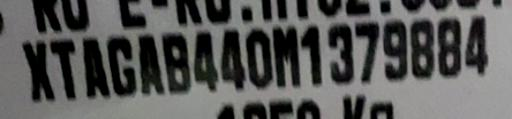letter: (45, 36, 81, 103), (19, 39, 57, 102), (105, 34, 139, 99), (158, 30, 192, 93), (269, 25, 301, 90), (80, 35, 112, 100), (134, 33, 166, 96), (324, 21, 354, 84), (352, 20, 380, 85), (218, 26, 246, 91), (192, 29, 220, 94), (465, 15, 493, 78), (408, 18, 436, 81), (244, 27, 272, 90), (298, 21, 324, 86), (436, 15, 462, 78), (382, 19, 408, 82)
